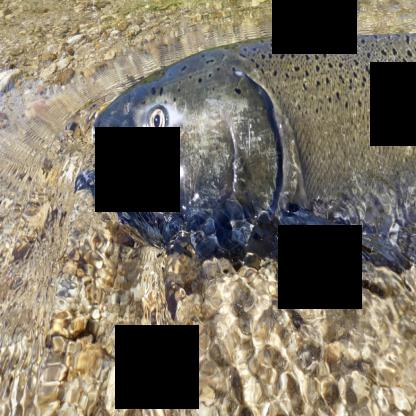fish: (86, 32, 416, 278)
